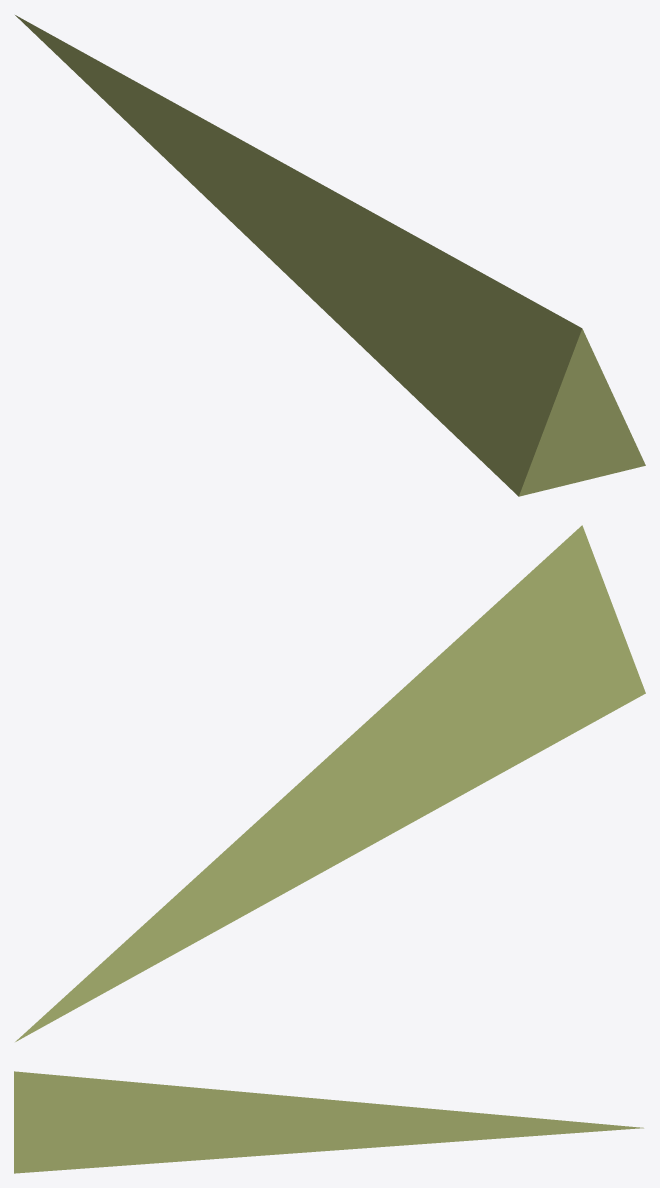
Rendered from Spike_Projectile.fbx.
3 views of the same model, one above another, from view 1: azimuth 30°, elevation 25°; view 2: azimuth 150°, elevation 25°; view 3: azimuth 270°, elevation 25° (orthographic). The views are drawn at different scales.
Visible parts, largest first — view 1: Spike; view 2: Spike; view 3: Spike.
Part boxes in pixels (x1,y1,x2,y2): Spike: (15, 15, 645, 496); Spike: (15, 525, 645, 1041); Spike: (14, 1071, 643, 1173).
Bounding box in the file's own units: 2.51 × 2.88 × 19.42.
